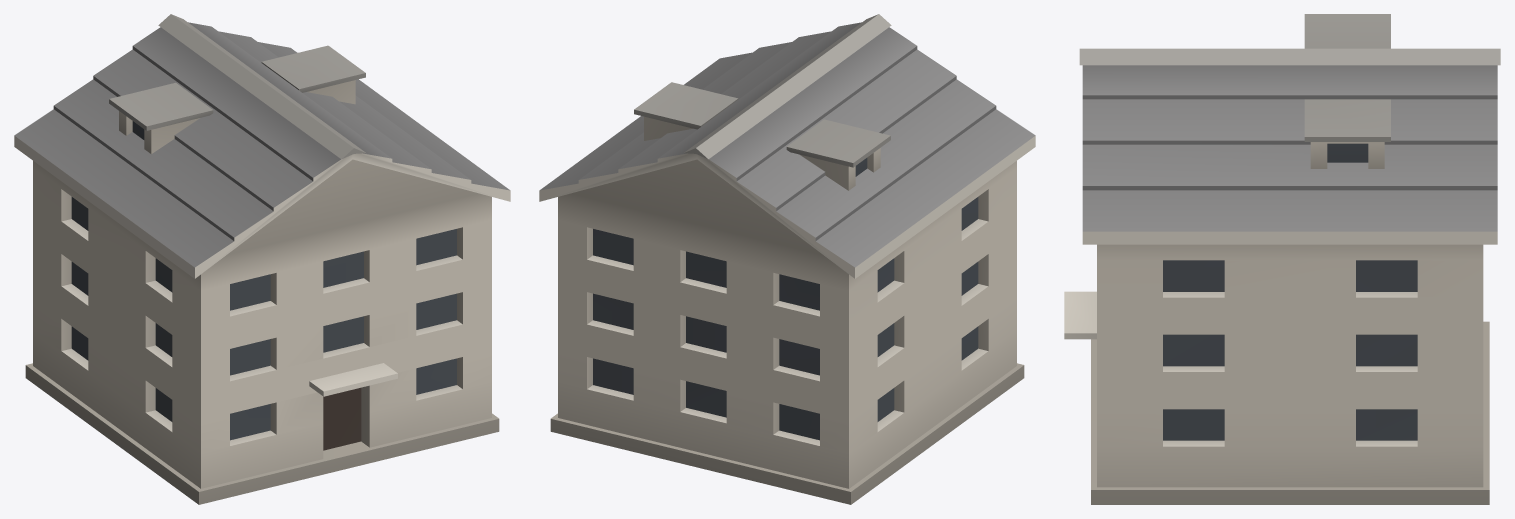
Rendered from building-lowrise-pitched.glb.
3 views of the same model, side by side, from view 1: azimuth 30°, elevation 25°; view 2: azimuth 150°, elevation 25°; view 3: azimuth 270°, elevation 25° (orthographic). The views are drawn at different scales.
Parts seen in each view (by area): view 1: Building; view 2: Building; view 3: Building.
Boxes of the visible parts, left/top/right/bottom form: Building: left=14, top=14, right=510, bottom=504; Building: left=539, top=14, right=1035, bottom=504; Building: left=1064, top=14, right=1500, bottom=504.
Bounding box in the file's own units: 1.02 × 0.999 × 1.06.
